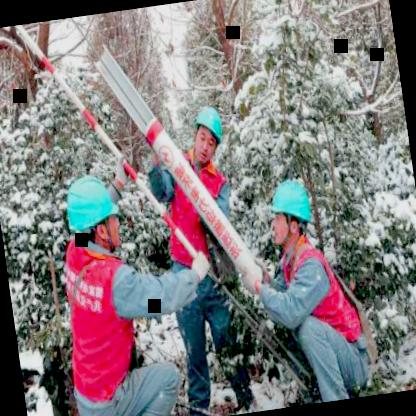helmet: (62, 166, 126, 261), (260, 170, 322, 258), (186, 99, 230, 169)
